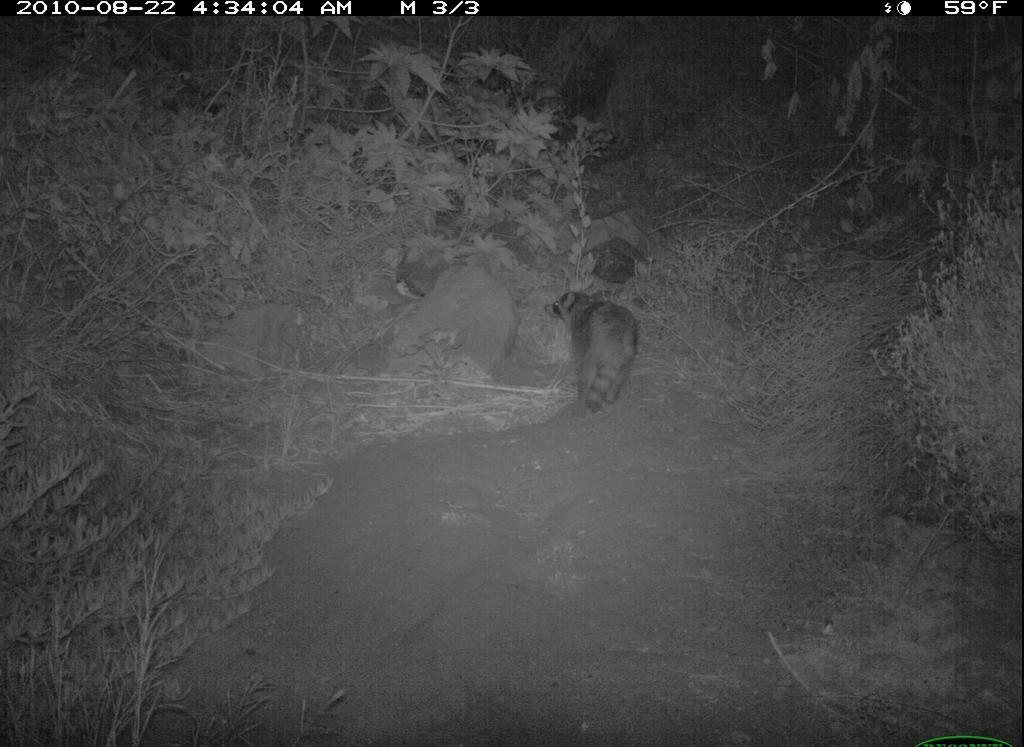raccoon: (541, 285, 647, 423)
